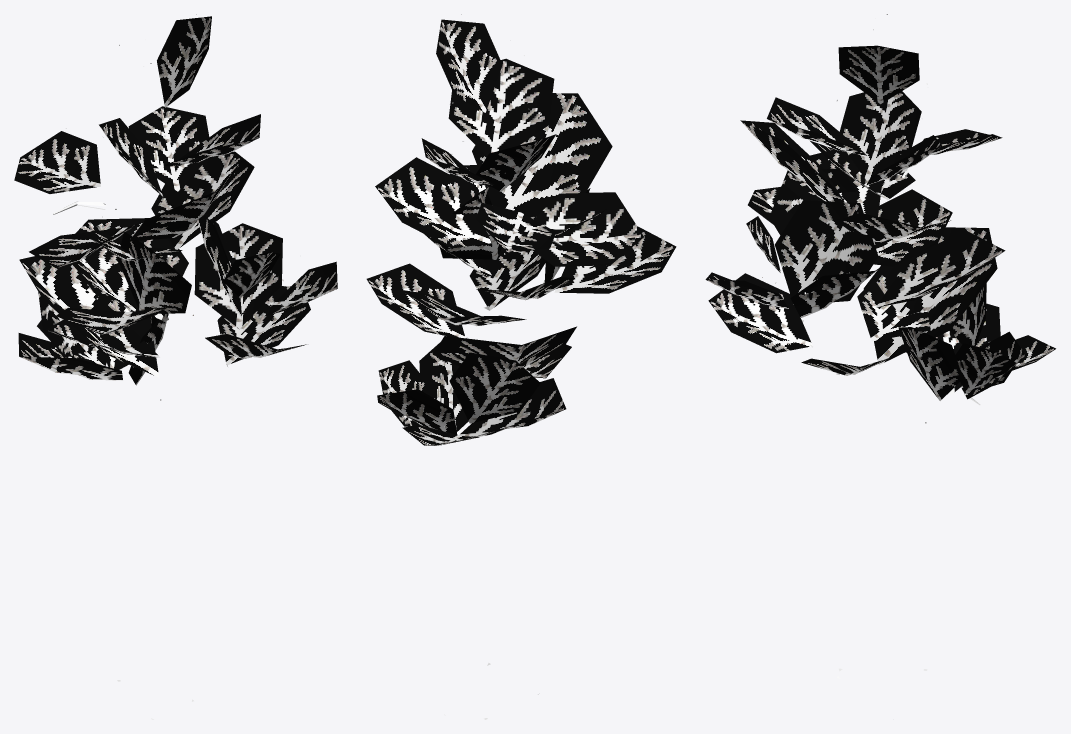
File: fm_tree_winter_bare_b.glb
The picture shows the model from 3 angles, left to right: view 1: azimuth 30°, elevation 25°; view 2: azimuth 150°, elevation 25°; view 3: azimuth 270°, elevation 25°; orthographic projection.
Visible parts, largest first — view 1: SM_Env_Tree_Birch_01_Branches_LOD1; view 2: SM_Env_Tree_Birch_01_Branches_LOD1; view 3: SM_Env_Tree_Birch_01_Branches_LOD1.
Boxes of the visible parts, bbox=[...] form: SM_Env_Tree_Birch_01_Branches_LOD1: bbox=[14, 16, 337, 385]; SM_Env_Tree_Birch_01_Branches_LOD1: bbox=[366, 19, 676, 445]; SM_Env_Tree_Birch_01_Branches_LOD1: bbox=[705, 45, 1055, 400].
Bounding box in the file's own units: 3.54 × 8.7 × 4.02.
2 materials, 2 textured.
